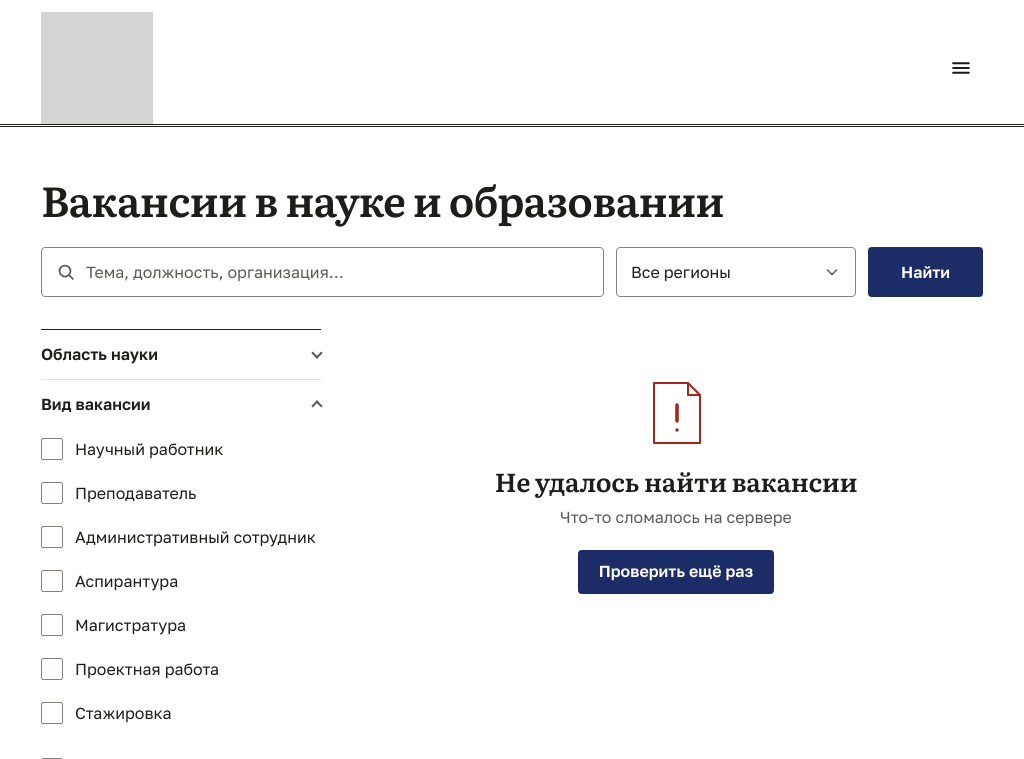
Scenario: search page › shows loading, then an error with a retry that works
Expected: the message shows "Не удалось найти вакансии", [495, 461, 857, 500]
What coordinates should you click on to do the following:
click the button "Проверить ещё раз"
I would click on:
 (676, 572)
Its box is [578, 550, 774, 594].
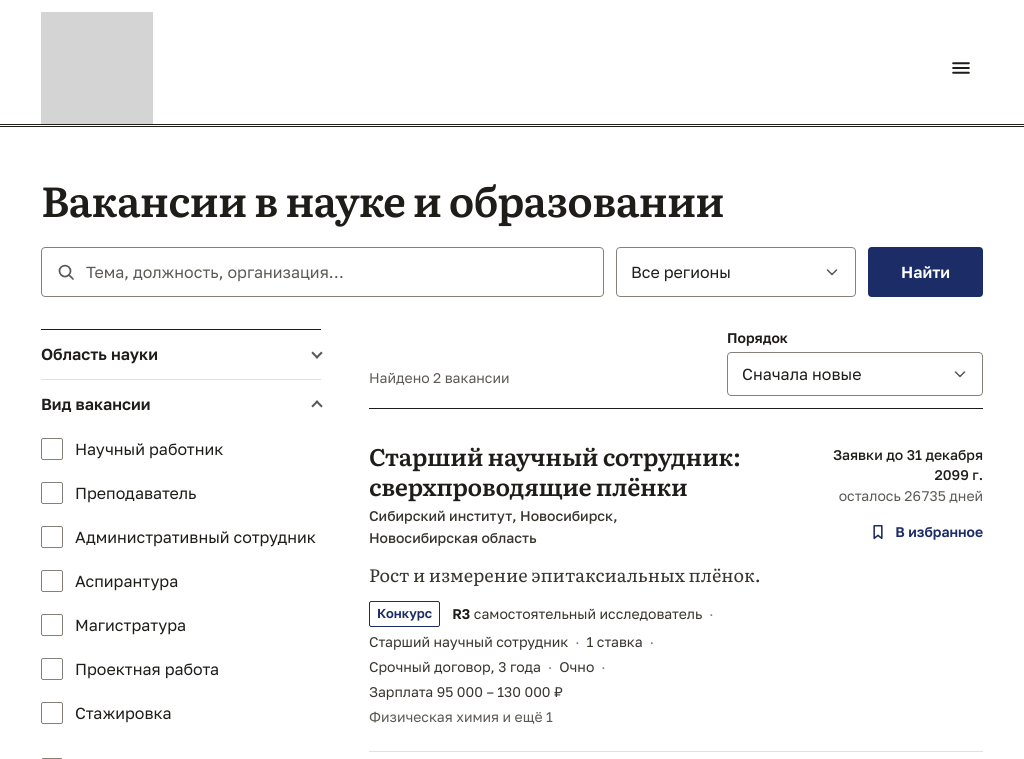
Expected: the link "Старший научный сотрудник: сверхпроводящие плёнки" is shown, [369, 438, 740, 503]
